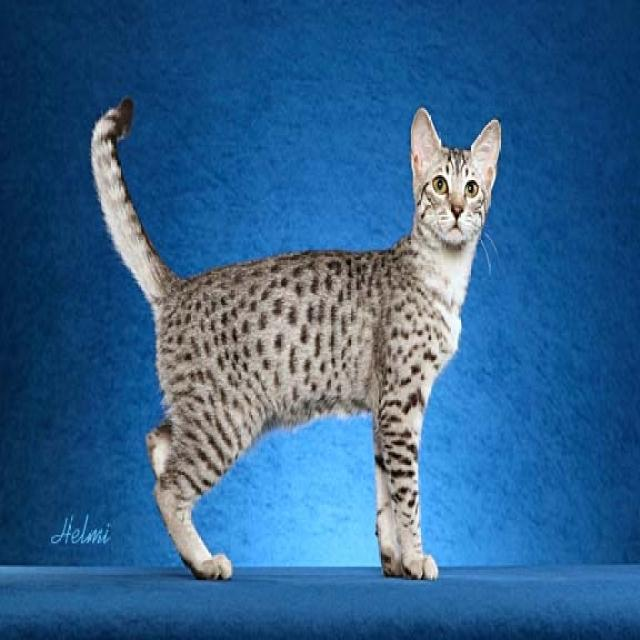Egyptian_Mau: (409, 105, 499, 242)
